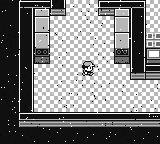main: (82, 62, 95, 75)
no-caminable: (1, 0, 160, 143), (19, 112, 160, 127), (19, 8, 33, 112), (130, 8, 145, 79), (99, 0, 145, 16), (34, 34, 49, 63), (115, 34, 130, 63), (115, 9, 129, 33), (35, 9, 49, 32), (20, 0, 50, 8), (50, 0, 65, 16), (145, 65, 160, 79), (146, 49, 160, 63)
